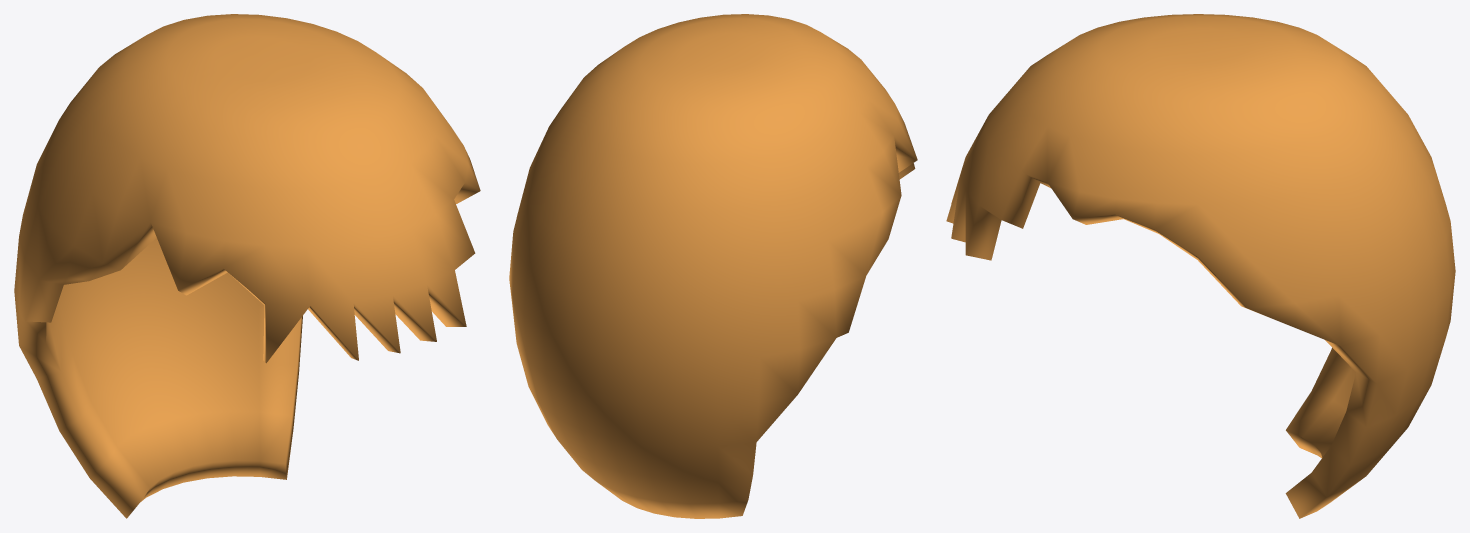
The model's file is Hair004.fbx.
3 views of the same model, side by side, from view 1: azimuth 30°, elevation 25°; view 2: azimuth 150°, elevation 25°; view 3: azimuth 270°, elevation 25° (orthographic). The views are drawn at different scales.
Visible parts, largest first — view 1: Head.002; view 2: Head.002; view 3: Head.002.
Part boxes in pixels (x1,y1,x2,y2): Head.002: [14, 14, 480, 518]; Head.002: [509, 14, 917, 518]; Head.002: [946, 14, 1455, 518].
Bounding box in the file's own units: 299 × 351 × 369.
